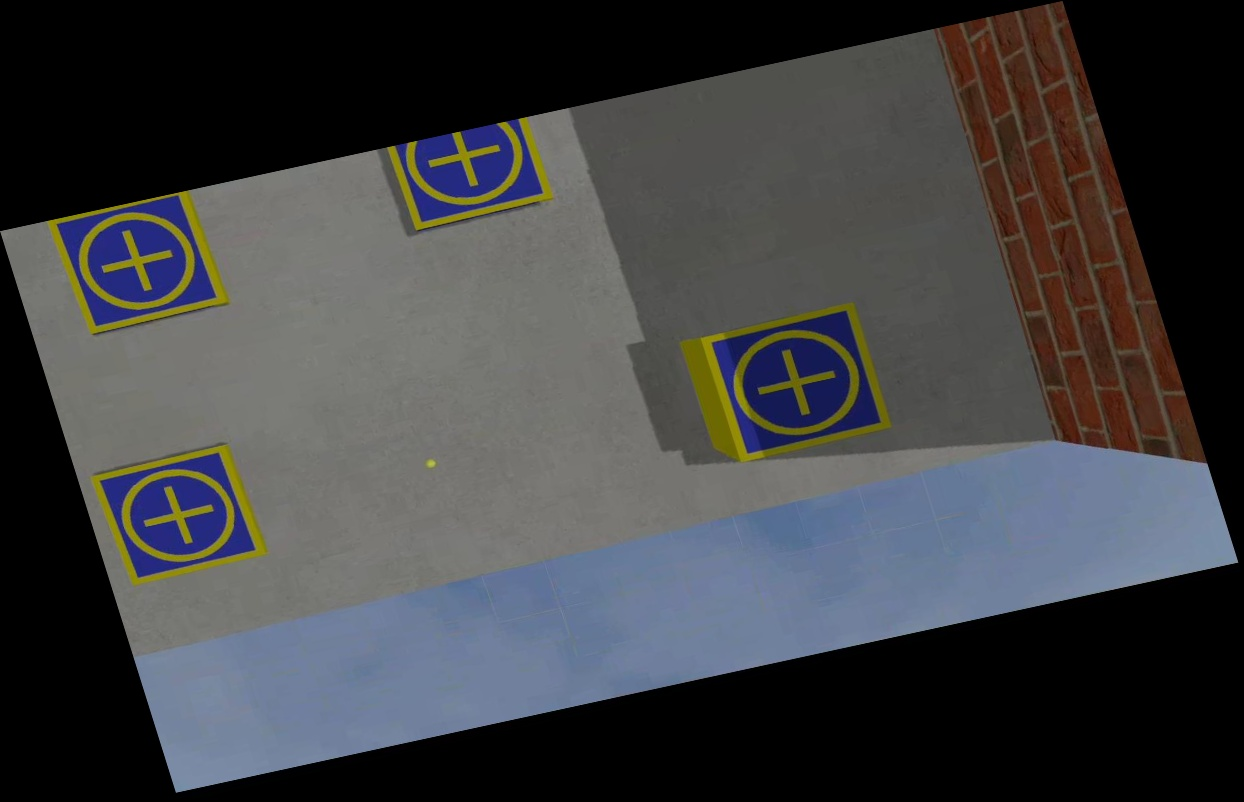small_base: (694, 300, 897, 466), (85, 438, 275, 589), (44, 188, 233, 337), (388, 116, 554, 230)
